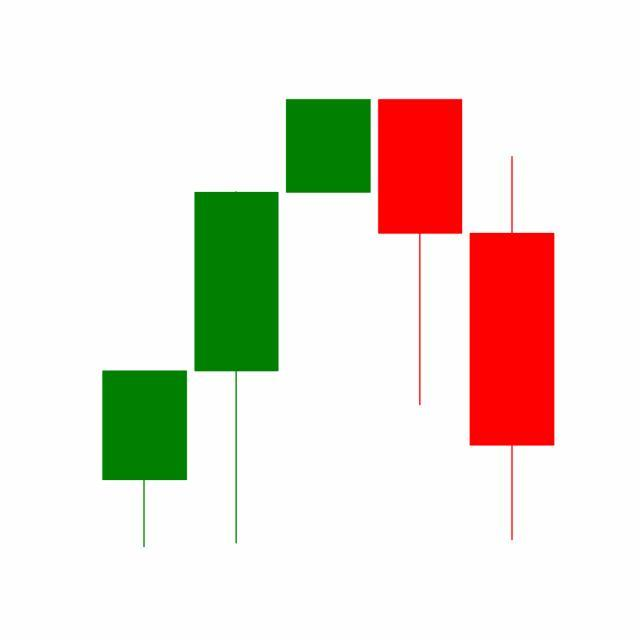Hammer: (374, 96, 468, 410)
